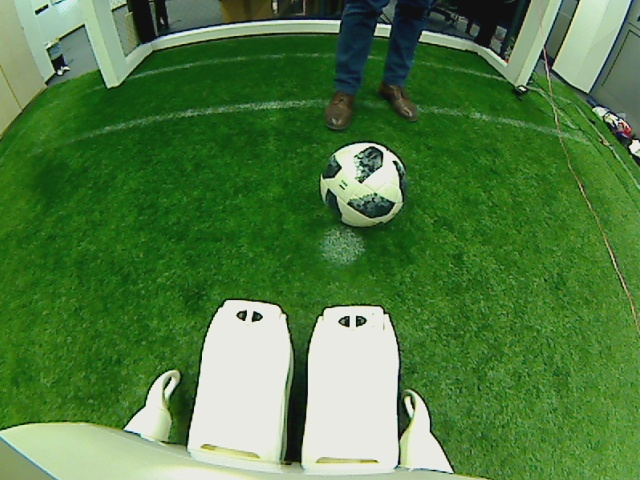ball: (320, 138, 406, 229)
